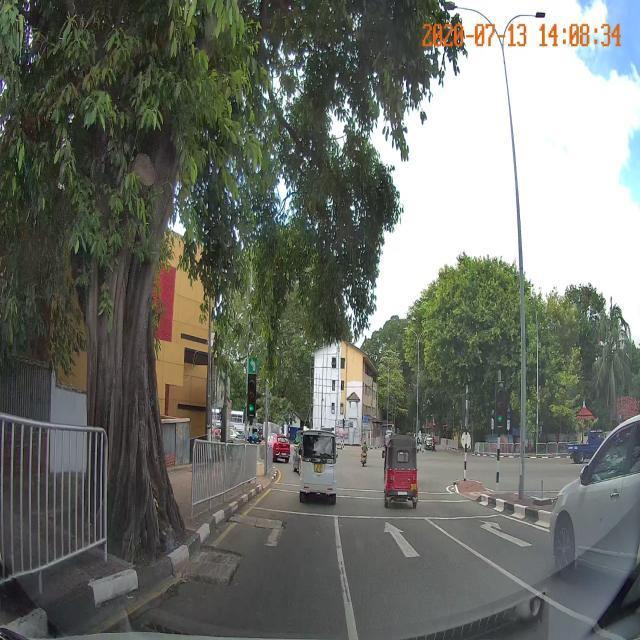forward: (333, 521, 506, 599)
